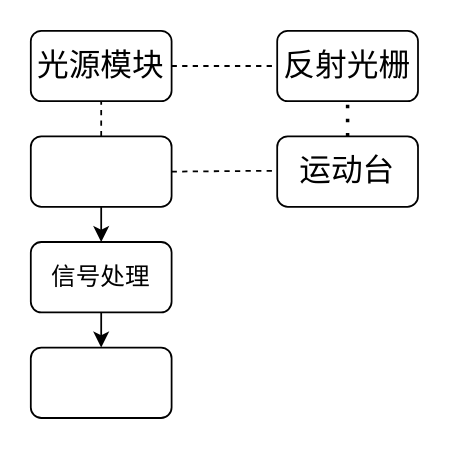
Some shapes in this 449 by 449 pixel diagram are drawn without their labels. The box of each missing label's shape, as (x1, y1, x2, y2) in pixels:
上位机: (29, 346, 172, 418)
读数头: (29, 135, 172, 207)
